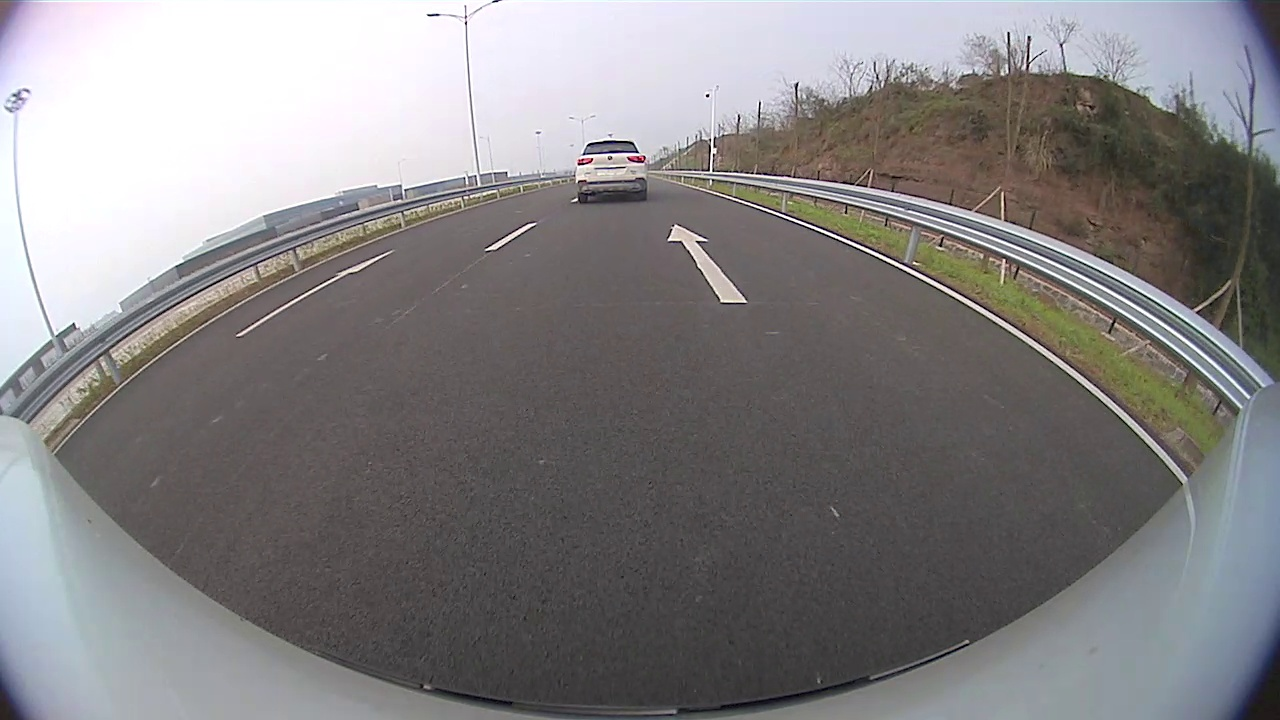car: (573, 138, 649, 204)
